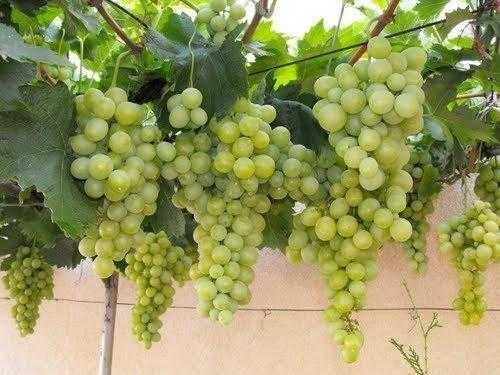Grape Unripe: (170, 96, 311, 309), (55, 79, 162, 279), (285, 183, 404, 352), (322, 39, 419, 205), (114, 225, 196, 346), (441, 200, 500, 339), (1, 231, 56, 356), (165, 52, 209, 128), (183, 0, 241, 45)
